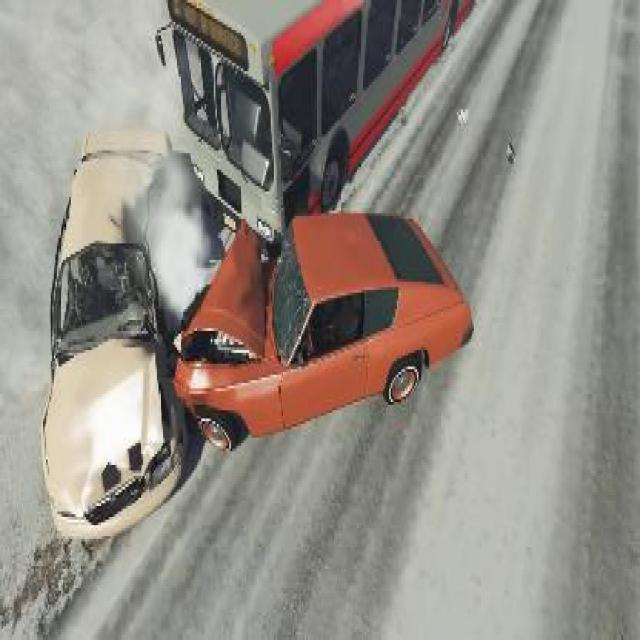accident: (37, 0, 486, 531), (40, 112, 477, 536), (146, 0, 478, 459)
